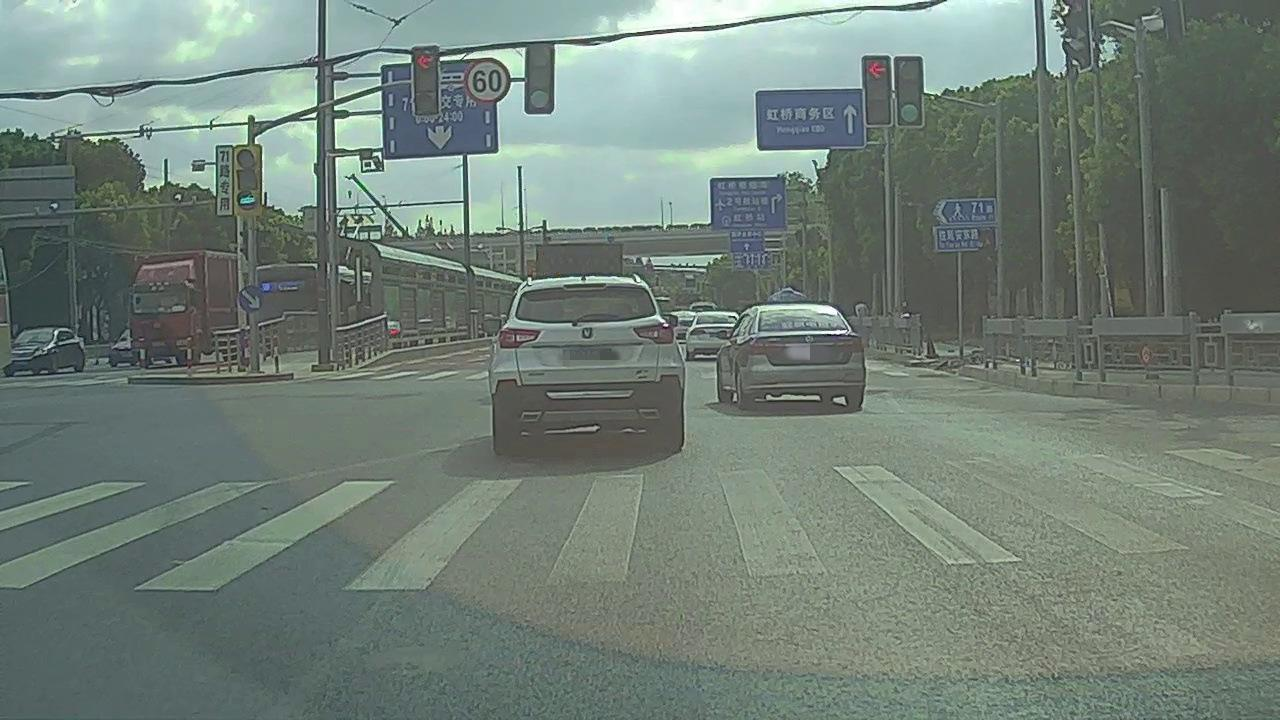traffic_light: (523, 44, 556, 114), (411, 44, 439, 116), (896, 57, 922, 124), (865, 57, 889, 124)
